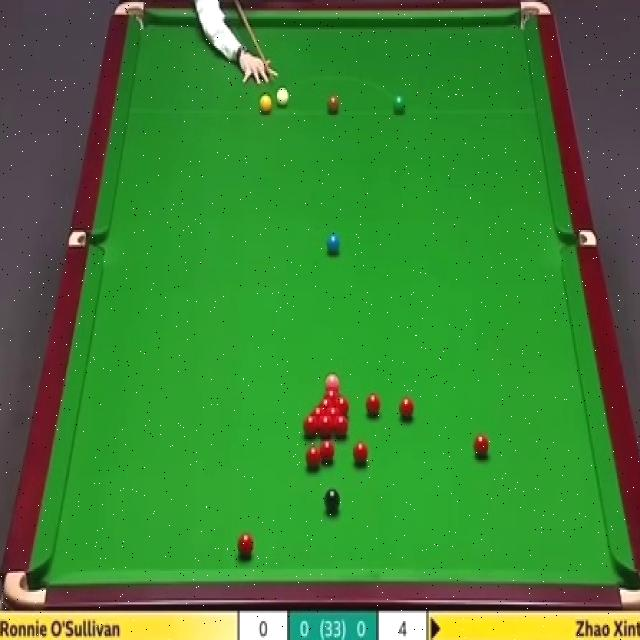black-ball: (324, 488, 340, 516)
blue-ball: (326, 234, 340, 253)
brown-ball: (326, 96, 340, 114)
green-ball: (394, 92, 408, 117)
pink-ball: (326, 380, 342, 397)
red-ball: (236, 532, 254, 560), (303, 414, 320, 439), (306, 446, 322, 472), (398, 395, 416, 418), (472, 434, 490, 456), (352, 441, 369, 464), (366, 392, 382, 416), (319, 441, 336, 463), (332, 416, 350, 435), (340, 405, 356, 420), (311, 405, 327, 419), (326, 405, 340, 421), (333, 396, 347, 412), (320, 417, 331, 437), (319, 397, 334, 411)
white-ball: (277, 86, 288, 108)
yellow-ball: (258, 93, 273, 115)
